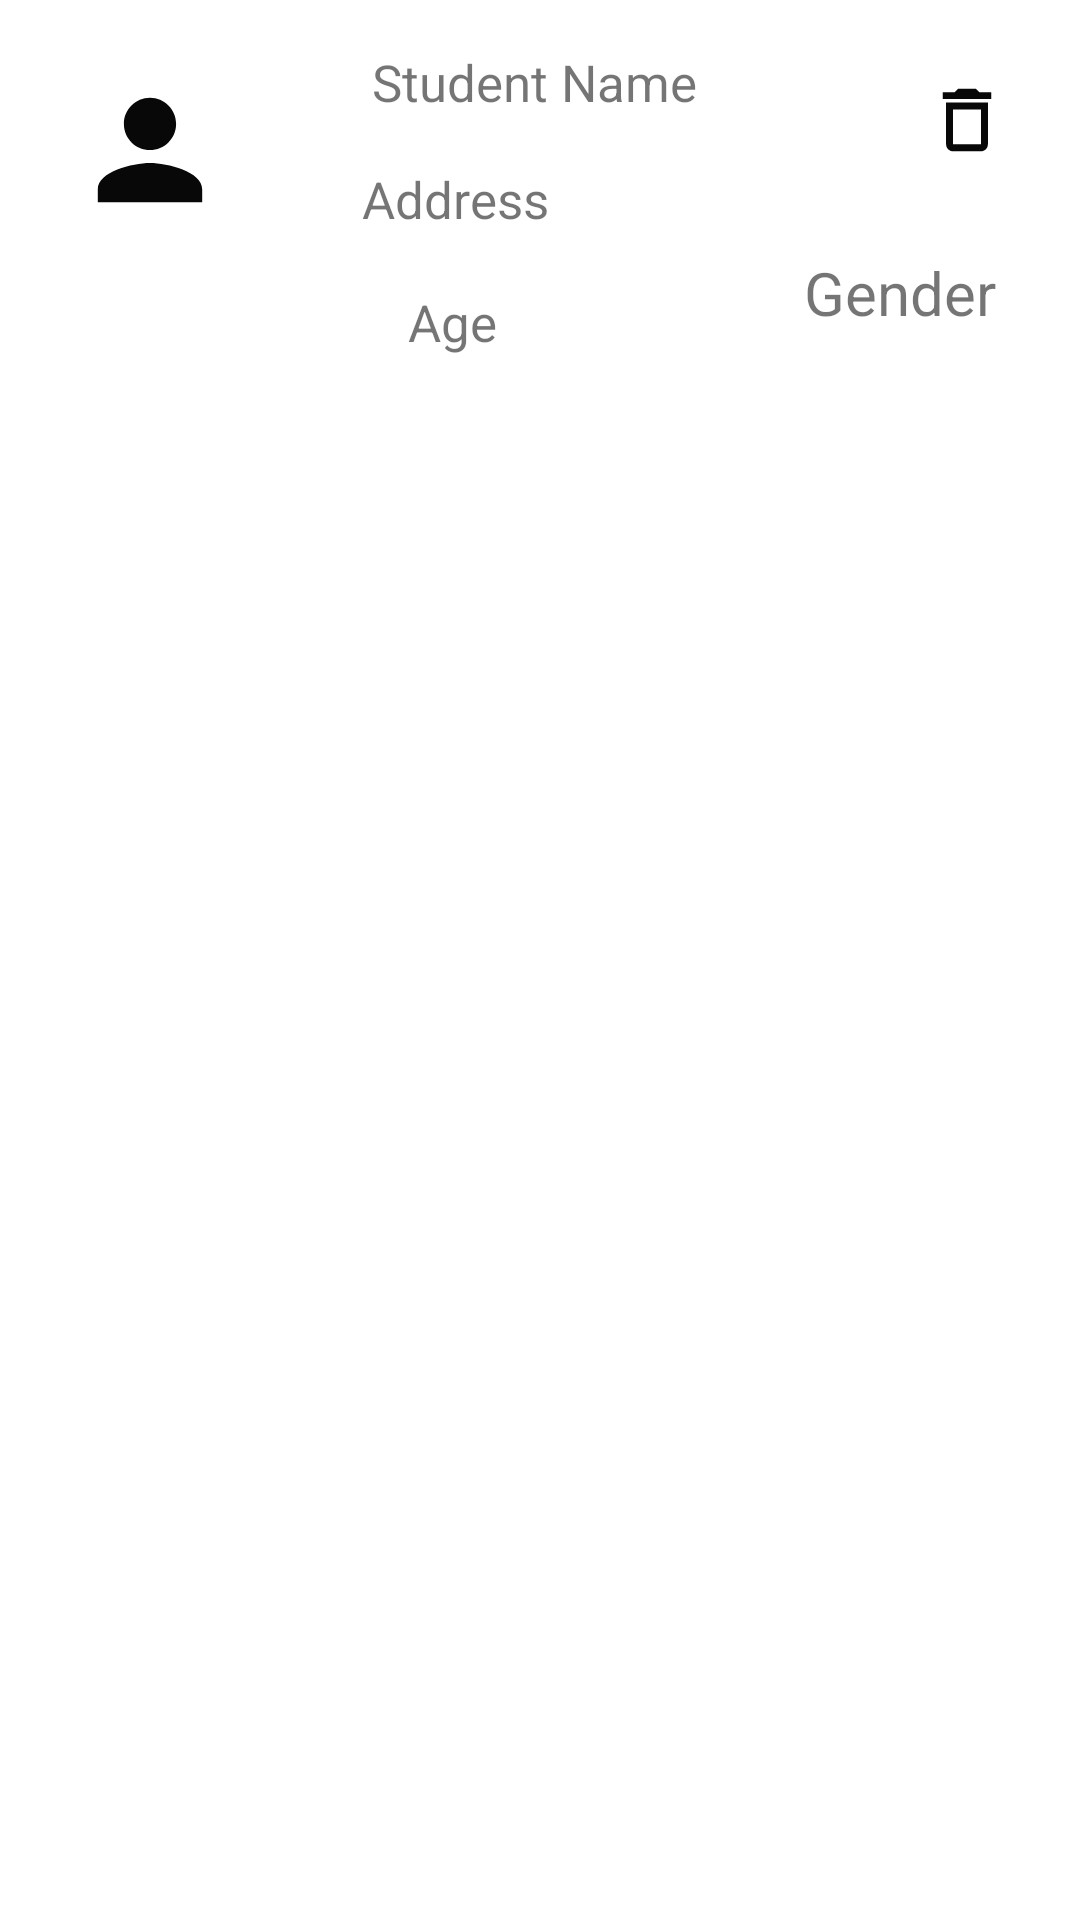

Icon bounding boxes for this 1080w x 1920h phone screenshot, format [x1=x1, y1=y1, x2=x2, y2=y2]:
del: [x1=942, y1=88, x2=992, y2=152]
profile: [x1=97, y1=97, x2=203, y2=203]
